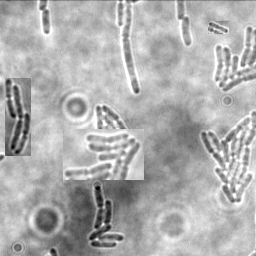Dividing: (123, 1, 142, 95), (41, 8, 52, 35)
Microcolony: (200, 109, 255, 205), (63, 129, 144, 180), (212, 25, 255, 94), (89, 184, 126, 248), (5, 78, 31, 156), (96, 103, 132, 128), (182, 16, 193, 48)
Rod: (208, 21, 229, 34)
